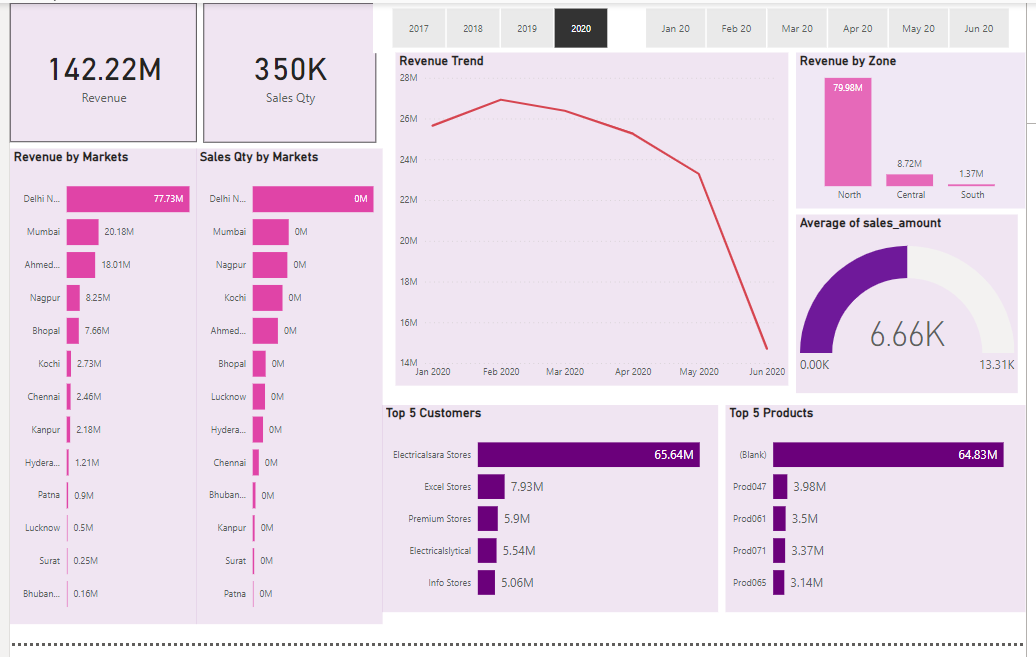

This screenshot's page, from the dashboard's own definition file:
{"tool":"powerbi","page":{"name":"Page 1","canvas":[1350,850],"ordinal":0},"visuals":[{"type":"card","fields":{"Values":["BaseMeasures (2).Revenue"]},"box":[0,0,247.9,184.6],"z":0},{"type":"card","fields":{"Values":["BaseMeasures (2).Sales Qty"]},"box":[257.1,0,229.2,185.4],"z":1000},{"type":"barChart","title":"Revenue by Markets","fields":{"Y":["BaseMeasures (2).Revenue"],"Category":["sales markets.markets_name"]},"box":[0,193.1,247.9,631.9],"z":2000},{"type":"barChart","title":"Sales Qty by Markets","fields":{"Y":["BaseMeasures (2).Sales Qty"],"Category":["sales markets.markets_name"]},"box":[247.9,193.1,247.9,631.9],"z":3000},{"type":"slicer","fields":{"Values":["sales date.year"]},"box":[483.2,0,335.5,66.5],"z":4000},{"type":"slicer","fields":{"Values":["sales date.cy_date"]},"box":[818.6,0,531.7,66.5],"z":5000},{"type":"barChart","title":"Top 5 Customers","fields":{"Y":["BaseMeasures (2).Revenue"],"Category":["sales customers.custmer_name"]},"box":[494.3,534.2,446.5,275.1],"z":6000},{"type":"barChart","title":"Top 5 Products","fields":{"Y":["BaseMeasures (2).Revenue"],"Category":["sales products.product_code"]},"box":[950.7,534.2,398.6,275.1],"z":7000},{"type":"lineChart","title":"Revenue Trend","fields":{"Y":["BaseMeasures (2).Revenue"],"Category":["sales date.cy_date"]},"box":[512.2,65.8,522.2,442.5],"z":8000},{"type":"gauge","fields":{"Y":["Avg(sales transactions.sales_amount)"]},"box":[1044.4,281,295,237.2],"z":9000},{"type":"columnChart","title":"Revenue by Zone","fields":{"Category":["sales markets.zone"],"Y":["BaseMeasures (2).Revenue"]},"box":[1044.4,65.8,304.9,207.3],"z":10000}]}

Visuals, with their boxes in screenshot pixels (x1, y1, x2, y2), scaled from the page's 1350x850 canvas onto the 1036x657 screenshot:
card - BaseMeasures (2).Revenue: region(0, 0, 190, 143)
card - BaseMeasures (2).Sales Qty: region(197, 0, 373, 143)
"Revenue by Markets" barChart: region(0, 149, 190, 638)
"Sales Qty by Markets" barChart: region(190, 149, 380, 638)
slicer - sales date.year: region(371, 0, 628, 51)
slicer - sales date.cy_date: region(628, 0, 1035, 51)
"Top 5 Customers" barChart: region(379, 413, 722, 626)
"Top 5 Products" barChart: region(730, 413, 1035, 626)
"Revenue Trend" lineChart: region(393, 51, 794, 393)
gauge - Avg(sales transactions.sales_amount): region(801, 217, 1028, 401)
"Revenue by Zone" columnChart: region(801, 51, 1035, 211)
